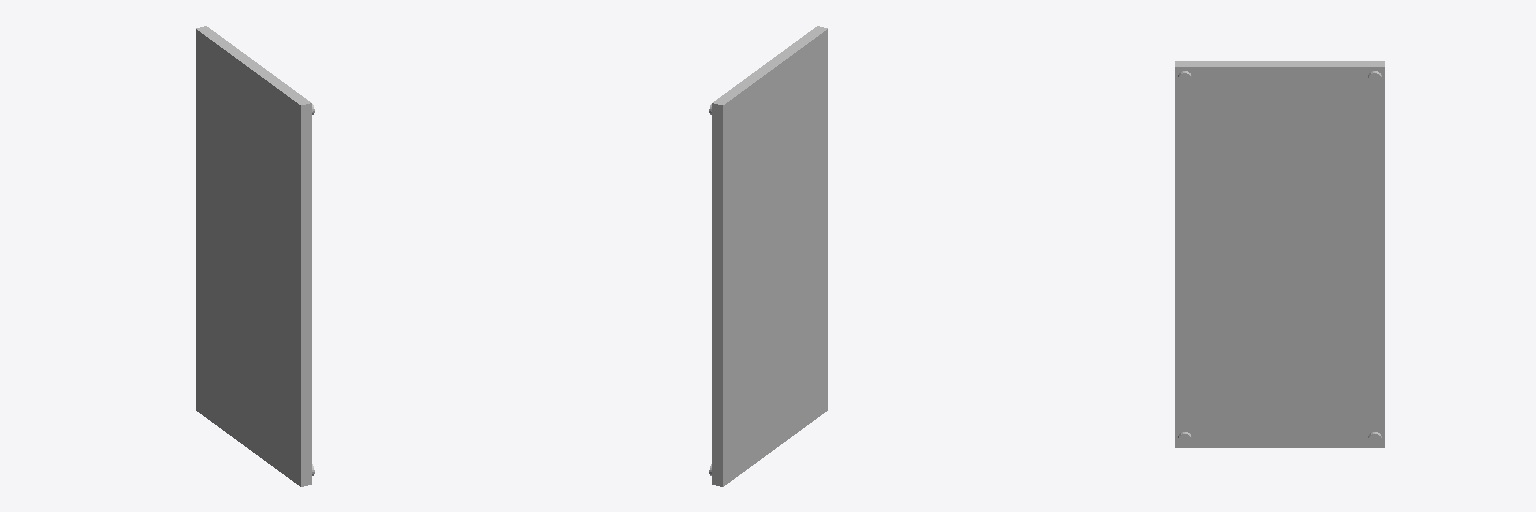
Rendered from mirror.obj.
3 views of the same model, side by side, from view 1: azimuth 30°, elevation 25°; view 2: azimuth 150°, elevation 25°; view 3: azimuth 270°, elevation 25° (orthographic).
Visible parts, largest first — view 1: espejo; view 2: espejo; view 3: espejo, Circle.005.
Boxes of the visible parts, x1=… form: espejo: x1=196, y1=26, x2=311, y2=486; espejo: x1=712, y1=26, x2=827, y2=486; espejo: x1=1175, y1=61, x2=1384, y2=447; Circle.005: x1=1178, y1=71, x2=1381, y2=445.
Size of the model in its own units: 0.0322 by 0.7548 by 0.3774.